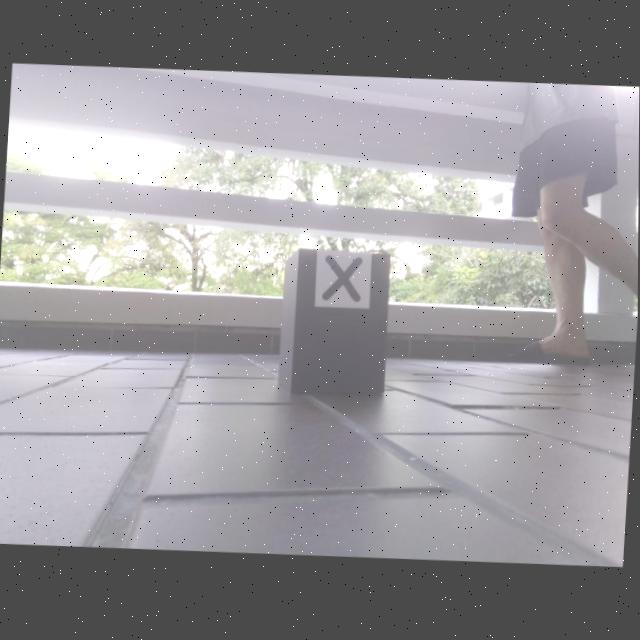X: (323, 256, 364, 304)
